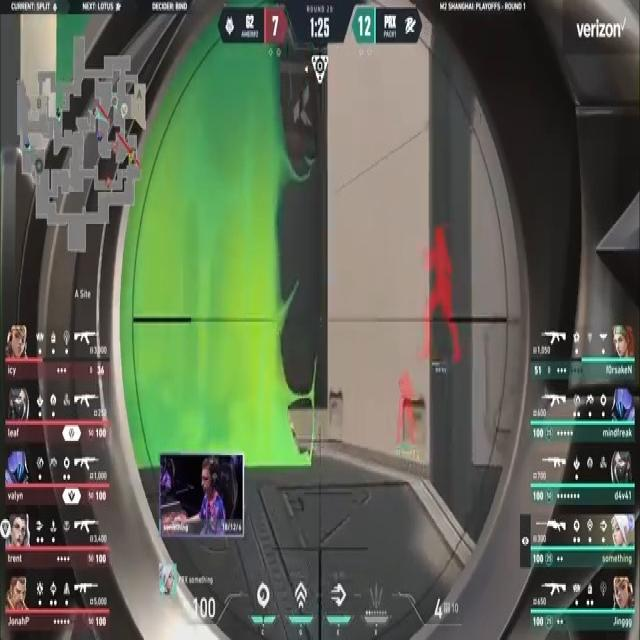enemy behind wall: (415, 212, 470, 373)
